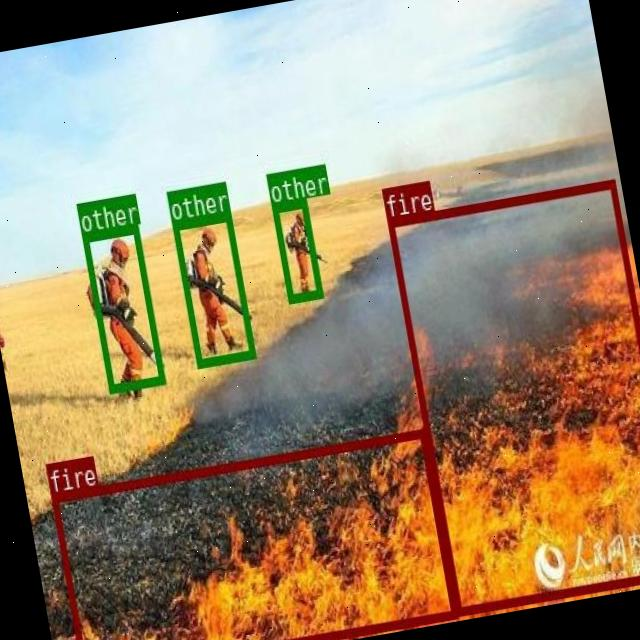fire: (386, 178, 640, 615), (49, 426, 456, 640)
